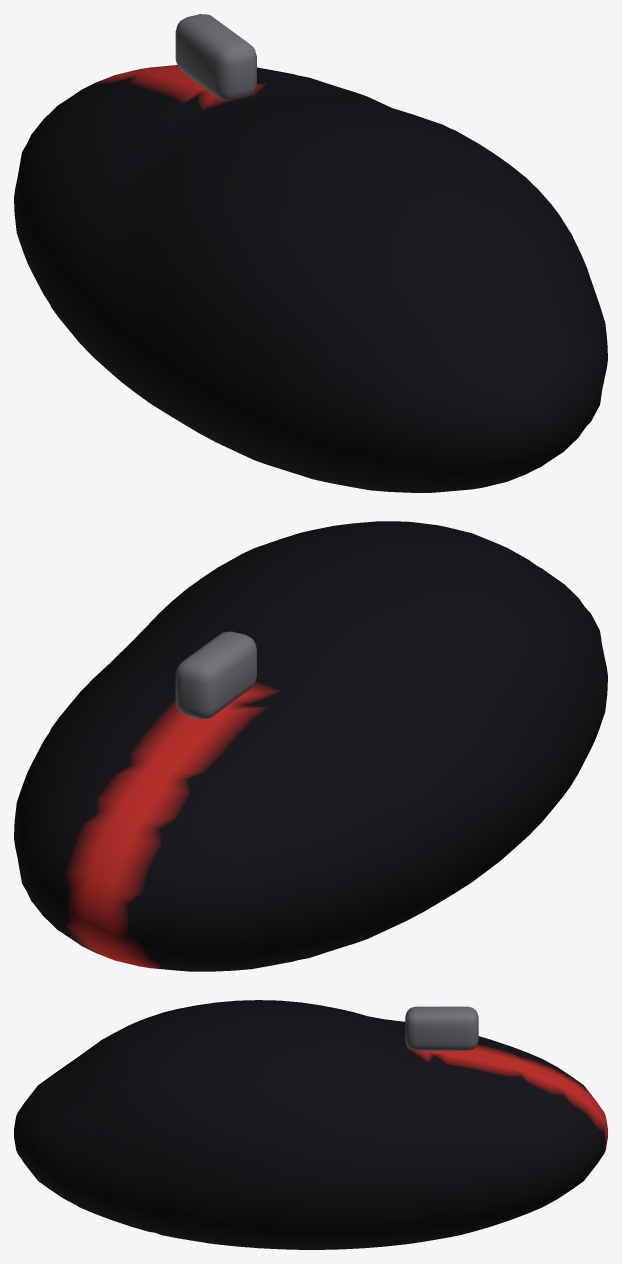
Rendered from mouse.glb.
3 views of the same model, one above another, from view 1: azimuth 30°, elevation 25°; view 2: azimuth 150°, elevation 25°; view 3: azimuth 270°, elevation 25° (orthographic). The views are drawn at different scales.
Visible parts, largest first — view 1: mouse; view 2: mouse; view 3: mouse.
Boxes of the visible parts, x1,y1,x2,y2 form: mouse: [14, 14, 607, 492]; mouse: [14, 521, 607, 971]; mouse: [14, 1000, 607, 1249].
Size of the model in its own units: 0.0625 by 0.0458 by 0.1134.
